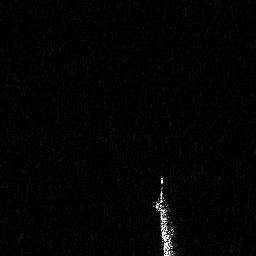ship: (151, 173, 176, 256)
